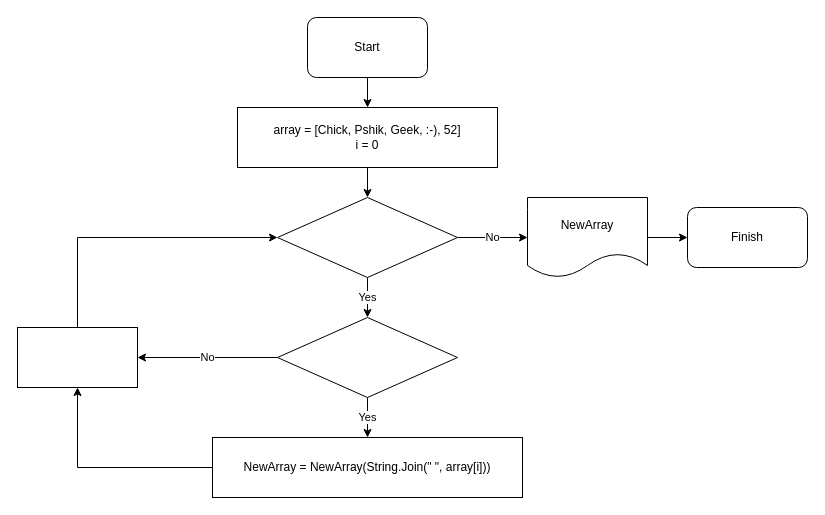
The diagram is 825 pixels wide and 515 high, and some of its shapes have lost their labels. The shapes that lost their labels are listed below. From the top down, each one's centre as x and y in pixels, then its label:
At (367,237): "i < array.Count".
At (77,357): "i = i + 1".
At (367,357): "array.Lenght <= 3".
